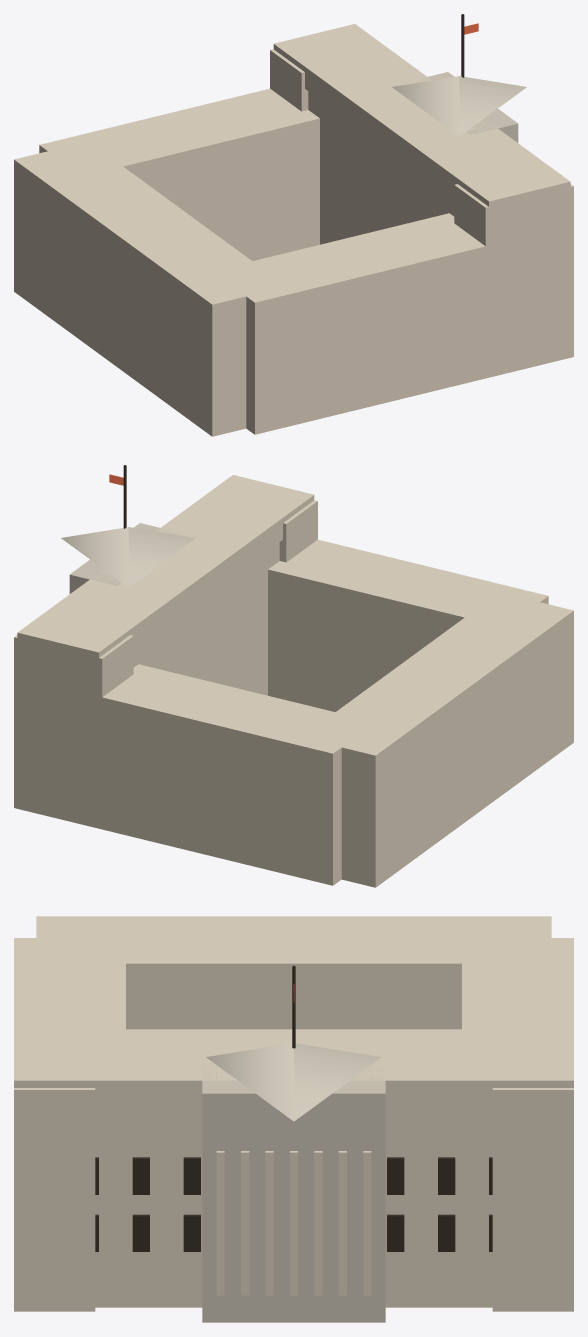
File: buckingham.glb
3 views of the same model, one above another, from view 1: azimuth 30°, elevation 25°; view 2: azimuth 150°, elevation 25°; view 3: azimuth 270°, elevation 25° (orthographic). The views are drawn at different scales.
Parts seen in each view (by area): view 1: buckingham; view 2: buckingham; view 3: buckingham.
Part boxes in pixels (bbox=[...]): buckingham: bbox=[14, 14, 573, 436]; buckingham: bbox=[14, 465, 573, 887]; buckingham: bbox=[14, 916, 573, 1322].
Bounding box in the file's own units: 1.1 × 0.6683 × 0.9881.
